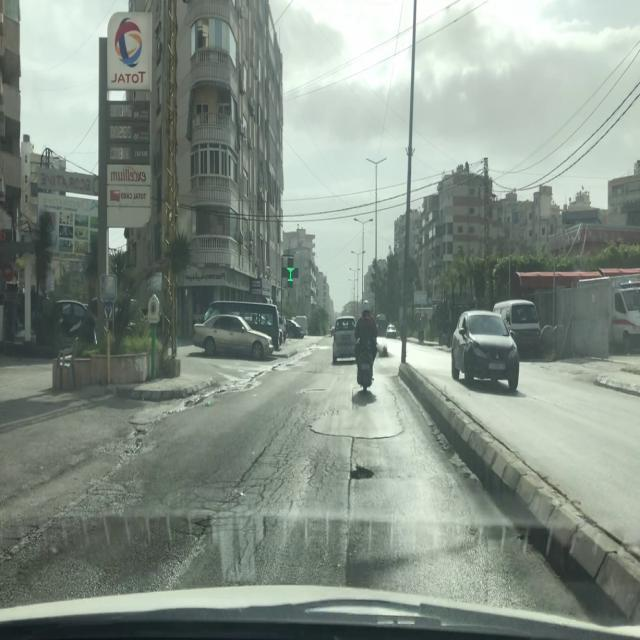pothole: (349, 463, 377, 483)
